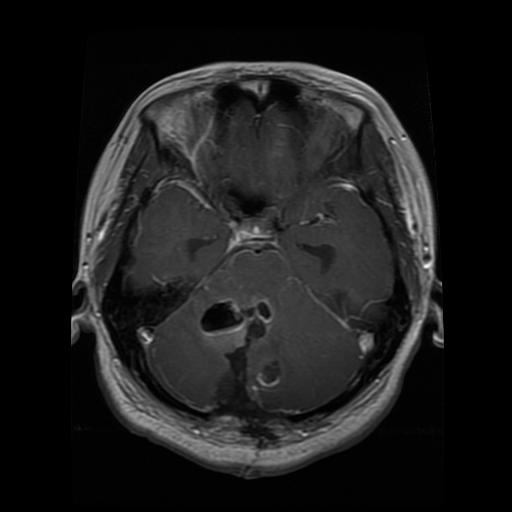Gliomia_tumour: (195, 296, 287, 409)
